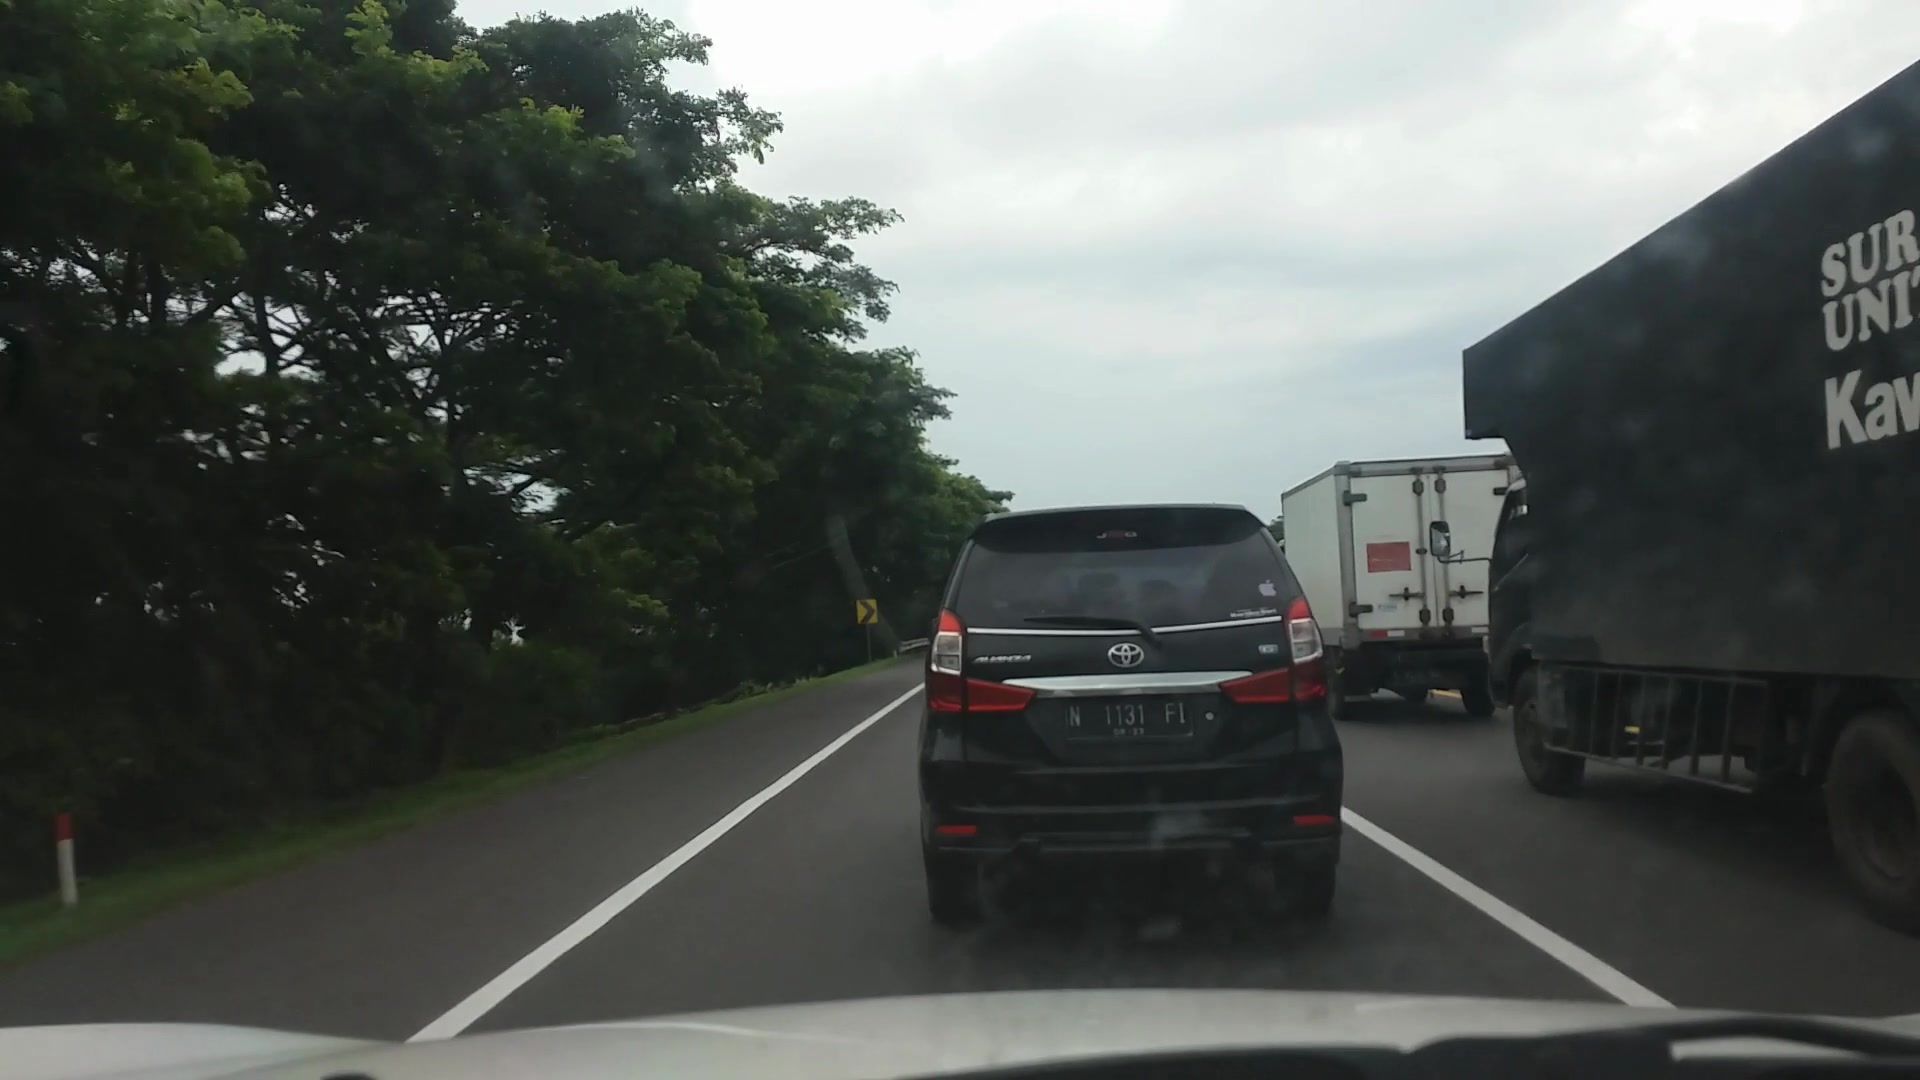plate_positive: (1064, 698, 1191, 736)
